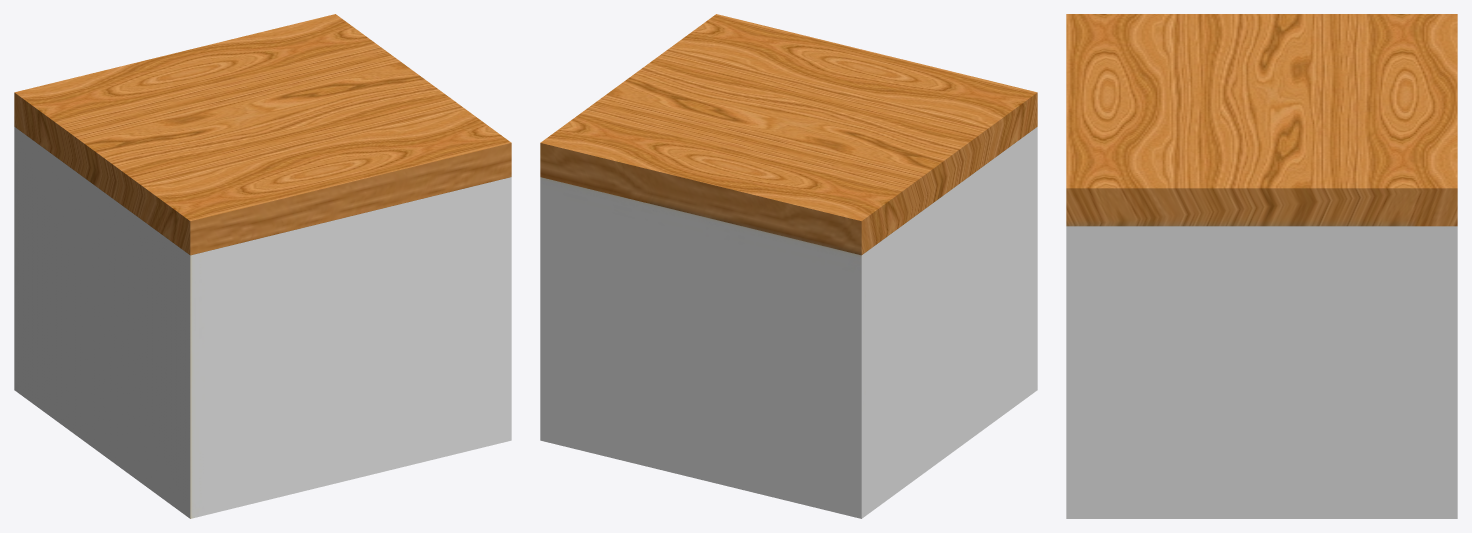
File: Stand.gltf
3 views of the same model, side by side, from view 1: azimuth 30°, elevation 25°; view 2: azimuth 150°, elevation 25°; view 3: azimuth 270°, elevation 25° (orthographic). The views are drawn at different scales.
Parts seen in each view (by area): view 1: Stand; view 2: Stand; view 3: Stand.
Part boxes in pixels (left/top/right/bottom): Stand: left=14, top=14, right=511, bottom=518; Stand: left=540, top=14, right=1037, bottom=518; Stand: left=1066, top=14, right=1457, bottom=518.
Size of the model in its own units: 27.72 by 24.54 by 26.3.
Materials: 1 (1 with a texture image).
